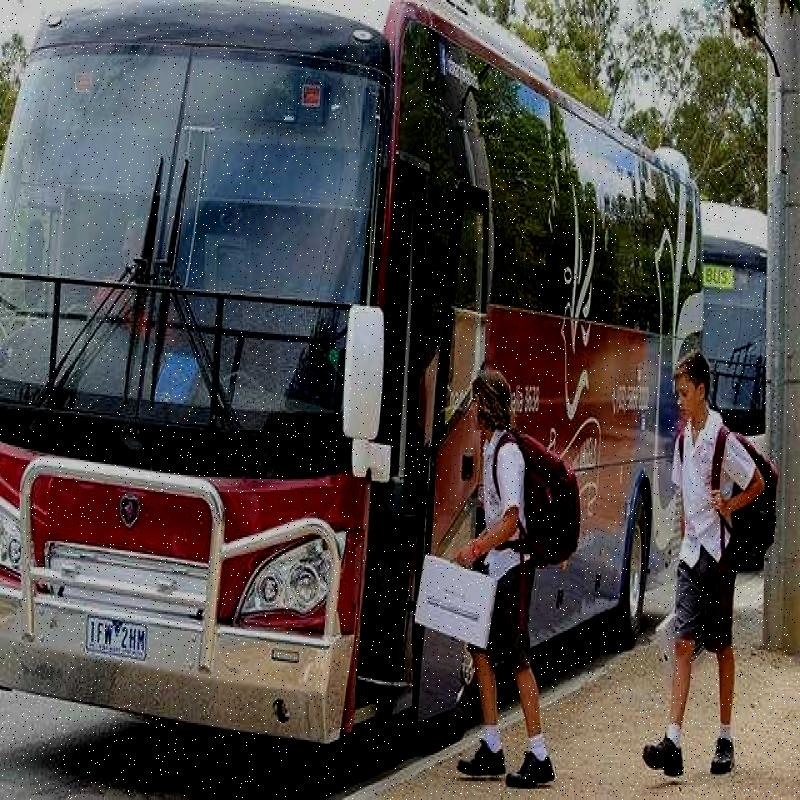bus: (3, 0, 678, 698)
